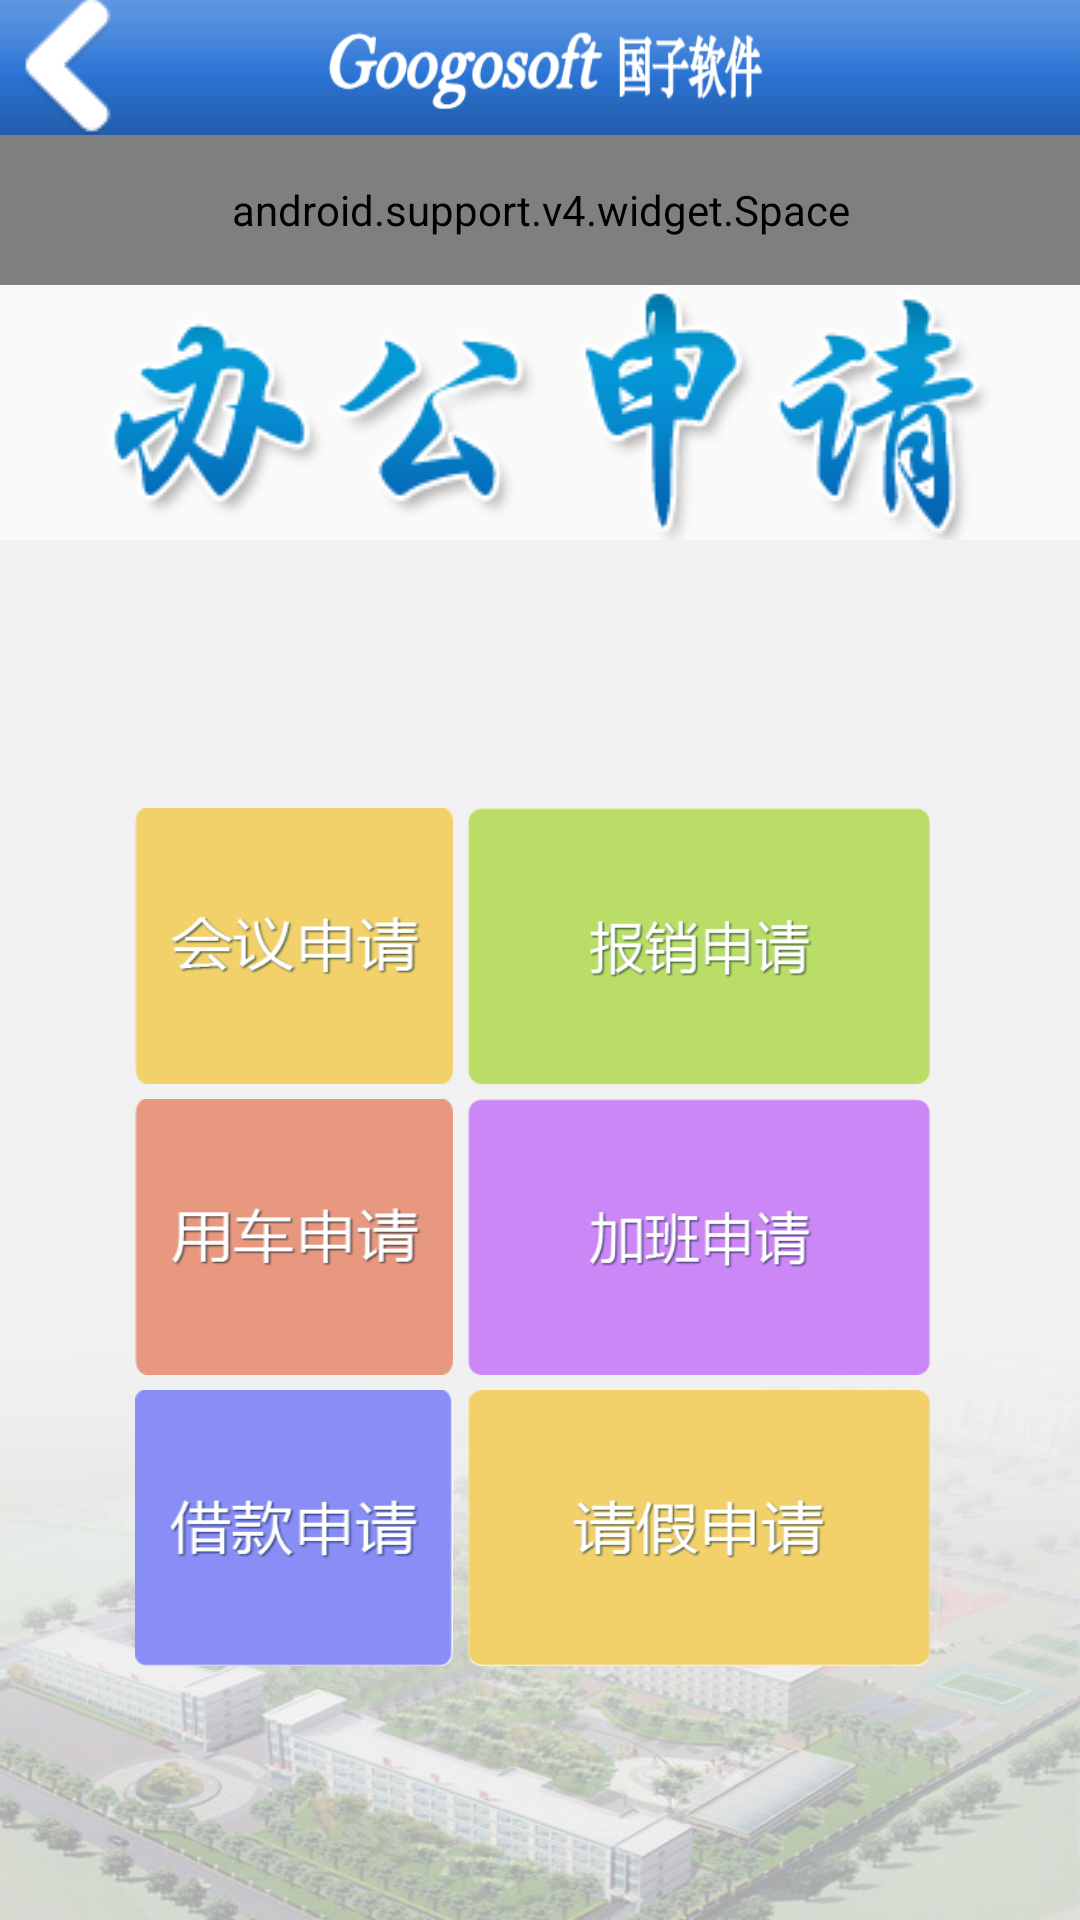

Point at icon controls on the screen. Image size 1080×1920, points as [x,y].
oa back: [67,67]
